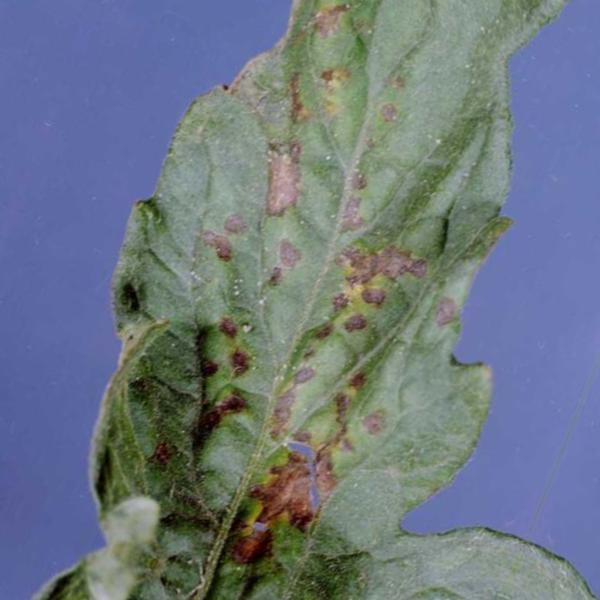Tomato leaf bacterial spot: (5, 0, 600, 600)
